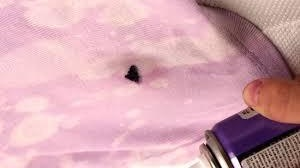ink: (125, 65, 143, 84)
